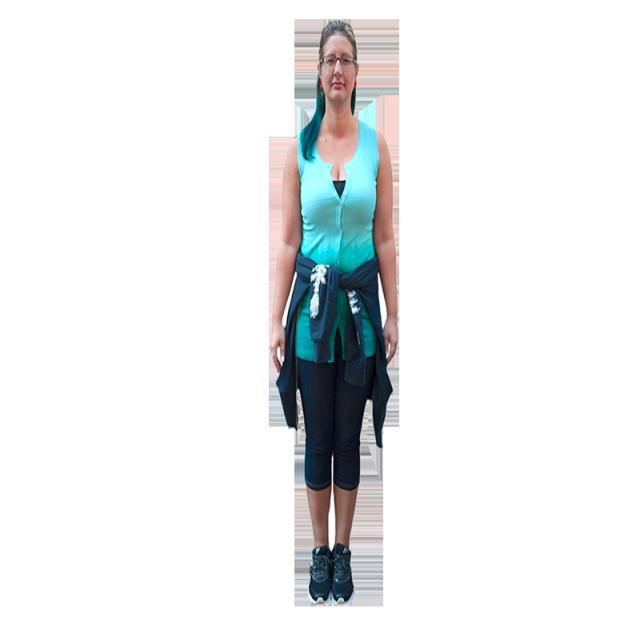jovem: (269, 22, 411, 607)
